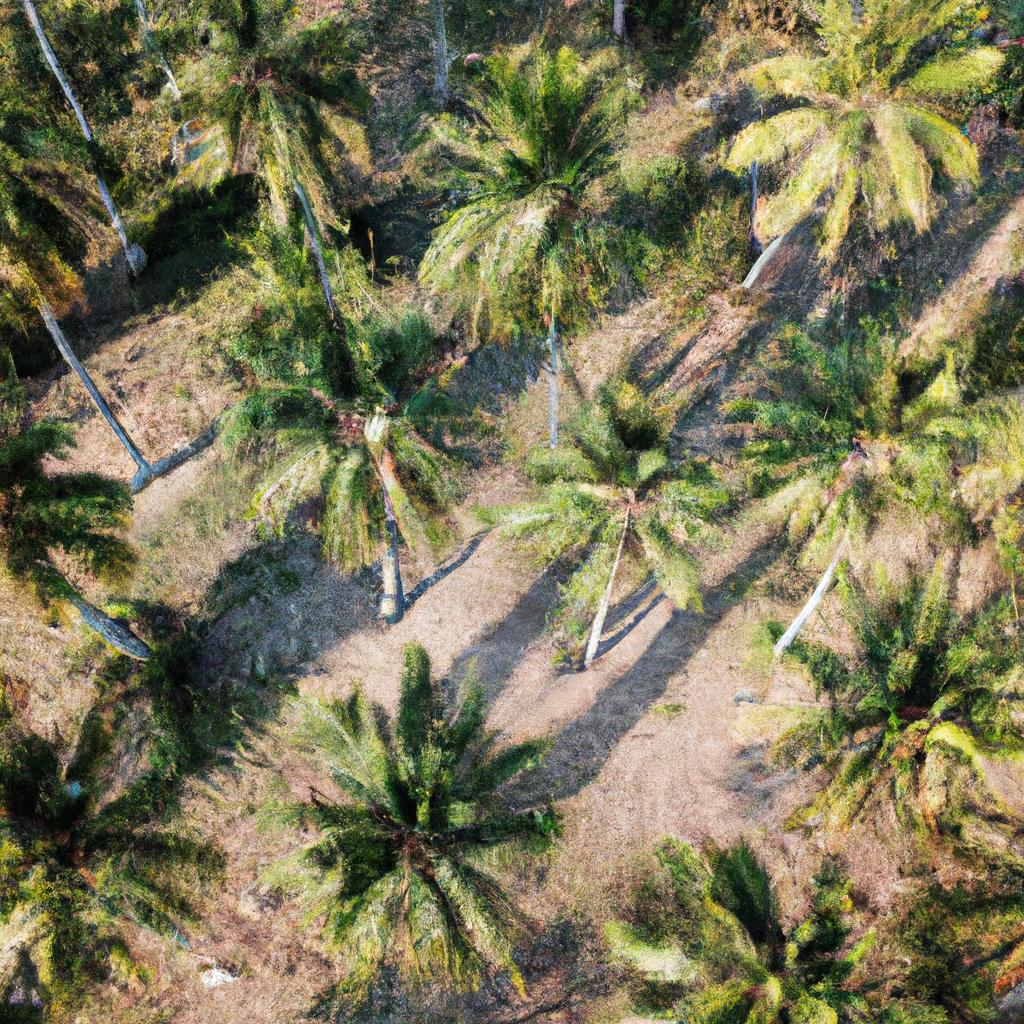coconut_tree: (187, 218, 512, 591), (263, 659, 616, 994), (414, 28, 712, 367), (749, 551, 1023, 864), (505, 364, 765, 650), (728, 0, 1012, 230)
